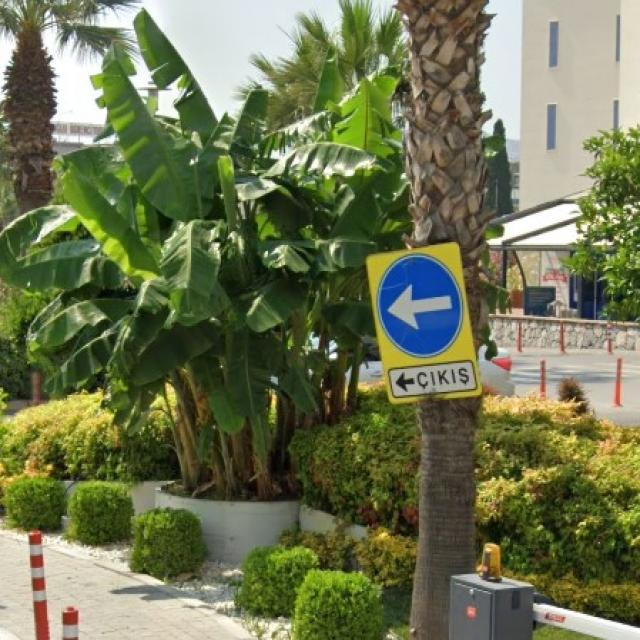Turn Left: (375, 252, 469, 362)
